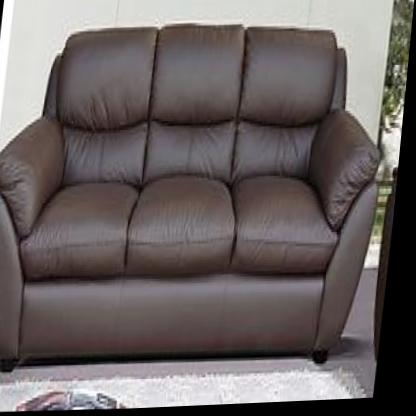Sofa: (0, 13, 399, 385)
